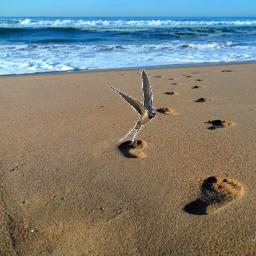Swallow: (109, 68, 156, 144)
